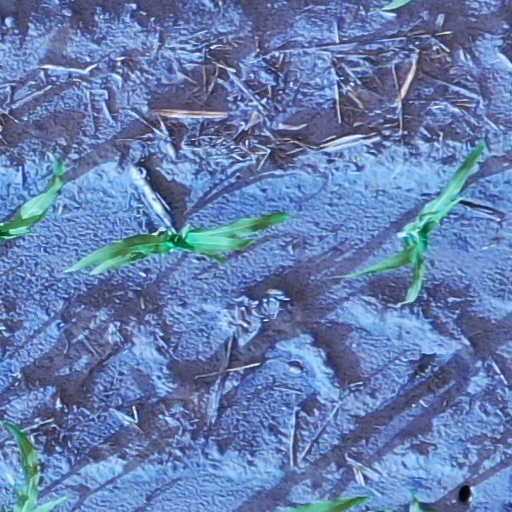planta: (362, 151, 481, 301), (68, 213, 289, 273)
